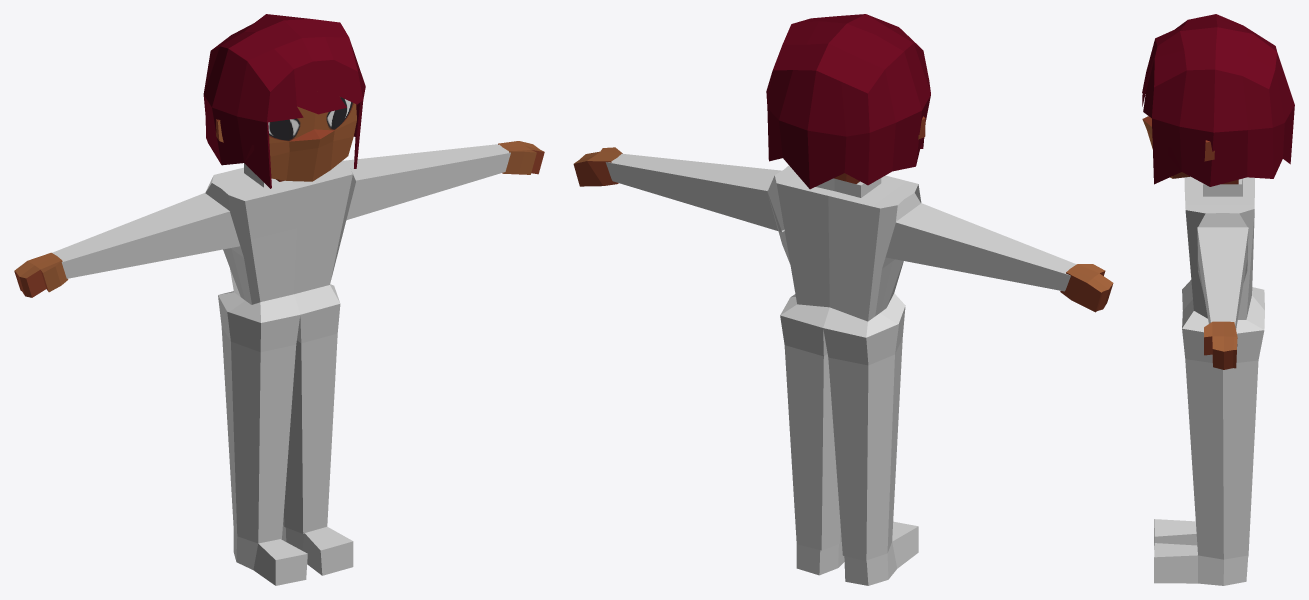
The model's file is Npc (1).fbx.
3 renders of one model, left to right at view 1: azimuth 30°, elevation 25°; view 2: azimuth 150°, elevation 25°; view 3: azimuth 270°, elevation 25°, orthographic.
Parts seen in each view (by area): view 1: Baju, rambut2, Muka cewe 2; view 2: Baju, rambut2, Muka cewe 2; view 3: Baju, rambut2, Muka cewe 2.
Part boxes in pixels (x1,y1,x2,y2): Baju: [52, 144, 510, 585]; rambut2: [203, 14, 365, 188]; Muka cewe 2: [14, 97, 544, 297]; Baju: [605, 154, 1076, 585]; rambut2: [766, 14, 930, 189]; Muka cewe 2: [573, 116, 1113, 312]; Baju: [1154, 176, 1264, 585]; rambut2: [1142, 14, 1294, 186]; Muka cewe 2: [1142, 116, 1238, 369].
Bounding box in the file's own units: 345 × 338 × 86.94.
Materials: 2 (1 with a texture image).
